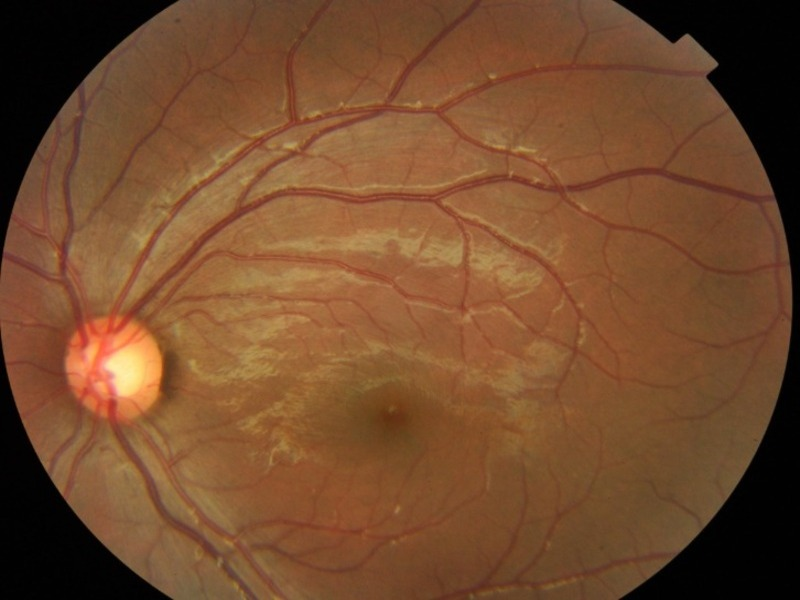Optic Cup: (102, 351, 142, 395)
Optic Disc: (64, 313, 163, 420)
